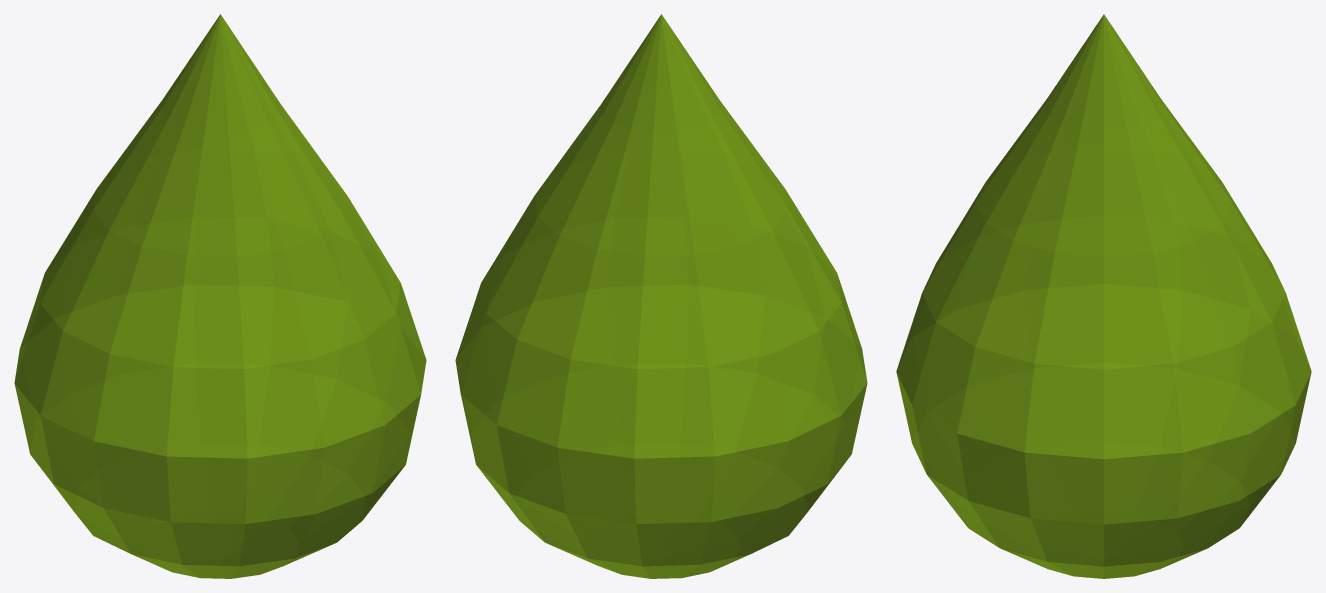
Rendered from droplet.FBX.
3 renders of one model, left to right at view 1: azimuth 30°, elevation 25°; view 2: azimuth 150°, elevation 25°; view 3: azimuth 270°, elevation 25°, orthographic.
Visible parts, largest first — view 1: Sphere001; view 2: Sphere001; view 3: Sphere001.
Boxes of the visible parts, x1,y1,x2,y2 form: Sphere001: (14, 14, 426, 578); Sphere001: (455, 14, 867, 578); Sphere001: (896, 14, 1311, 578).
Size of the model in its own units: 0.3573 by 0.5179 by 0.3573.
